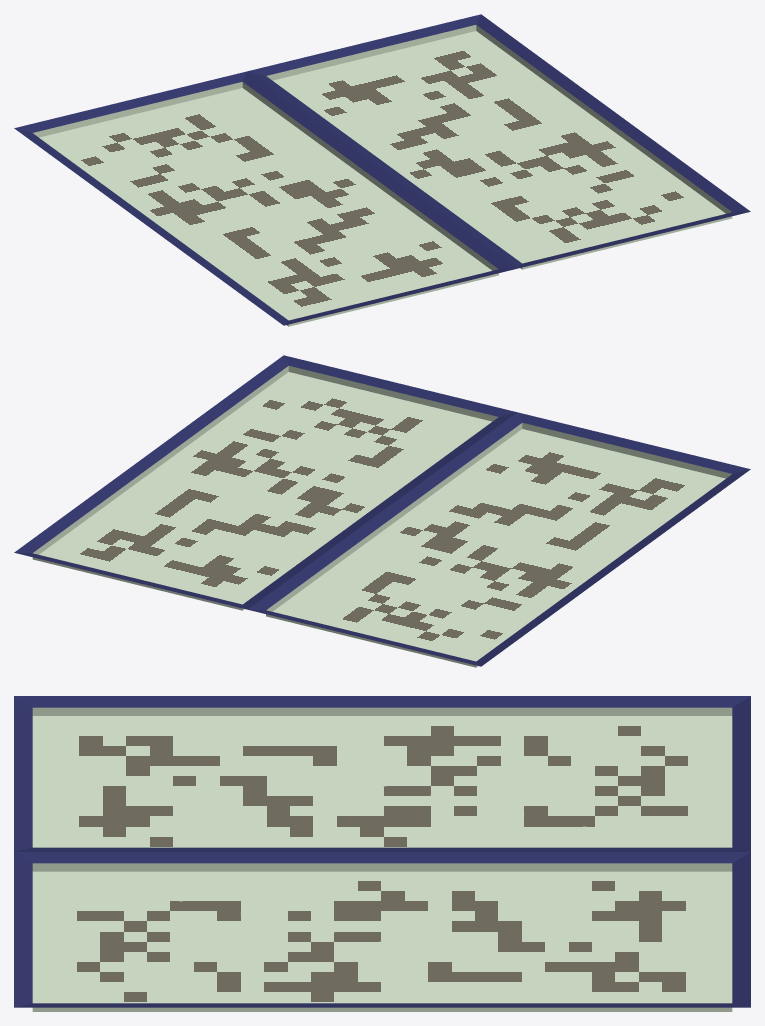
The model's file is drop_ceiling.glb.
3 views of the same model, one above another, from view 1: azimuth 30°, elevation 25°; view 2: azimuth 150°, elevation 25°; view 3: azimuth 270°, elevation 25° (orthographic). The views are drawn at different scales.
Parts seen in each view (by area): view 1: DropCeiling; view 2: DropCeiling; view 3: DropCeiling.
Boxes of the visible parts, x1=… form: DropCeiling: x1=14, y1=14, x2=750, y2=326; DropCeiling: x1=14, y1=355, x2=750, y2=667; DropCeiling: x1=14, y1=696, x2=750, y2=1011.
Size of the model in its own units: 2 by 0.0361 by 2.
1 material, 1 textured.
